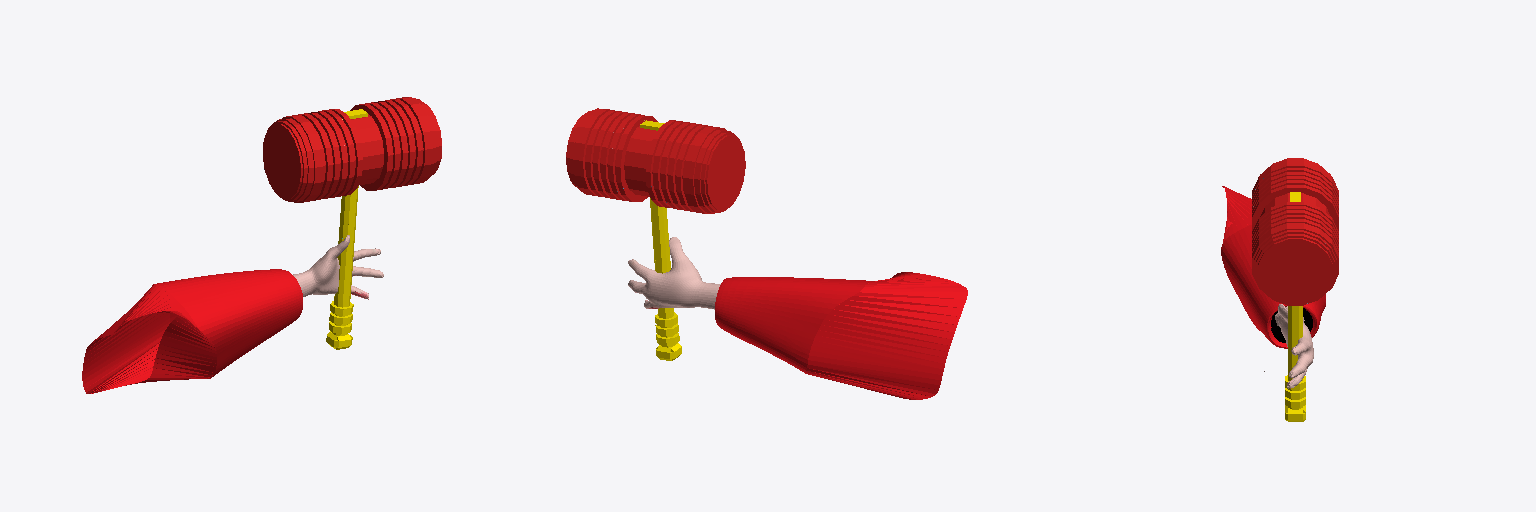
3 views of the same model, side by side, from view 1: azimuth 30°, elevation 25°; view 2: azimuth 150°, elevation 25°; view 3: azimuth 270°, elevation 25° (orthographic).
Visible parts, largest first — view 1: obj99.004; view 2: obj99.004; view 3: obj99.004.
Part boxes in pixels (left/top/right/bottom): obj99.004: left=82, top=97, right=441, bottom=393; obj99.004: left=566, top=108, right=967, bottom=399; obj99.004: left=1221, top=158, right=1338, bottom=421.
Bounding box in the file's own units: 6.02 × 3.85 × 1.73.
Materials: 2 (2 with a texture image).